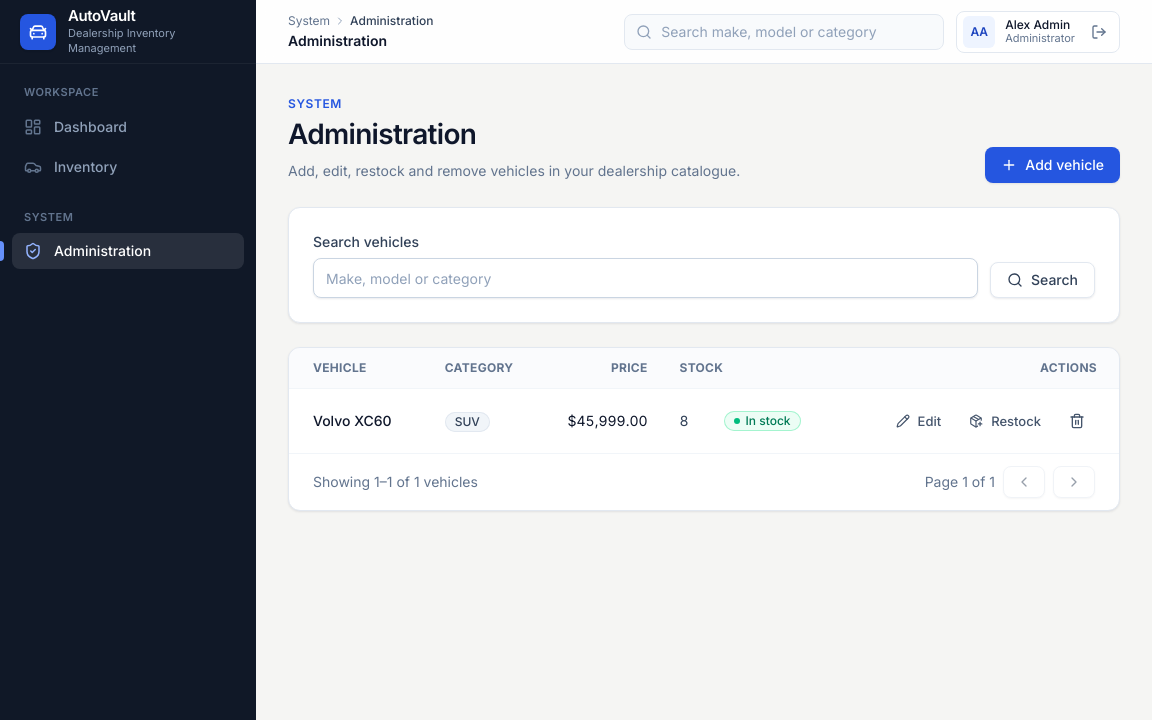
administration › requires confirmation before deleting a vehicle
The width and height of the screenshot is (1152, 720).
Click the button named "Delete Volvo XC60" at (1077,421), box left=1057, top=405, right=1097, bottom=437
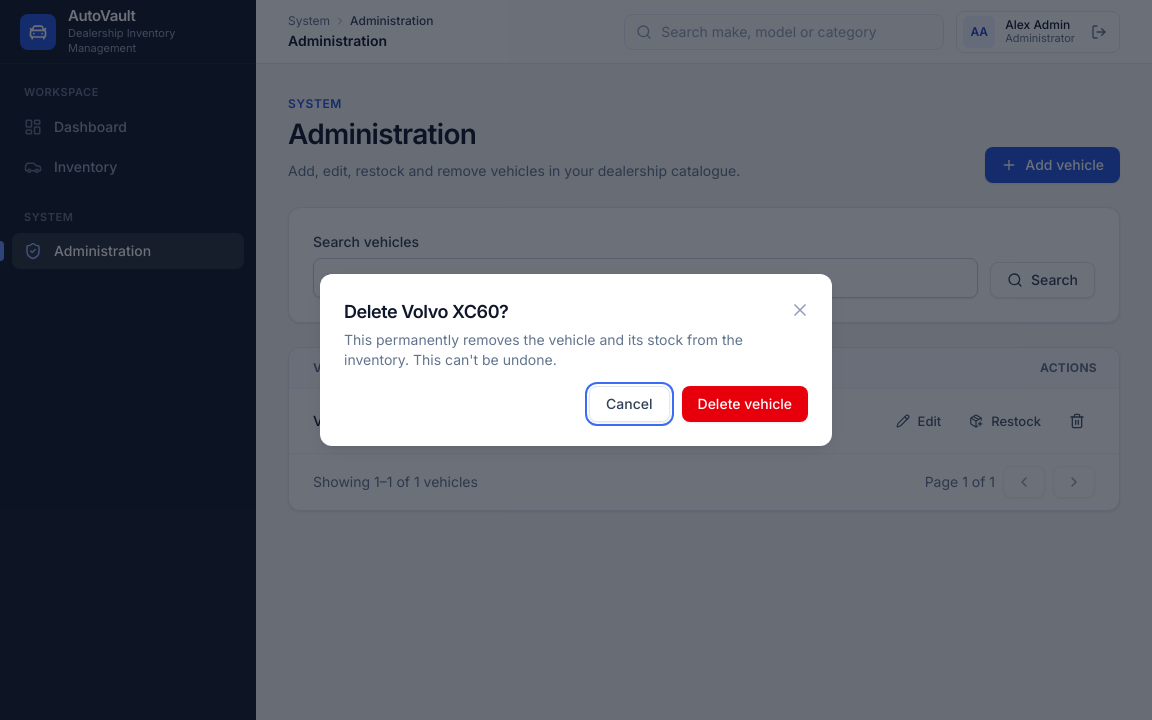
Expected: the heading "Delete Volvo XC60?" is shown, left=344, top=301, right=508, bottom=322
Click the button "Cancel" at (629,404), box left=589, top=386, right=670, bottom=422
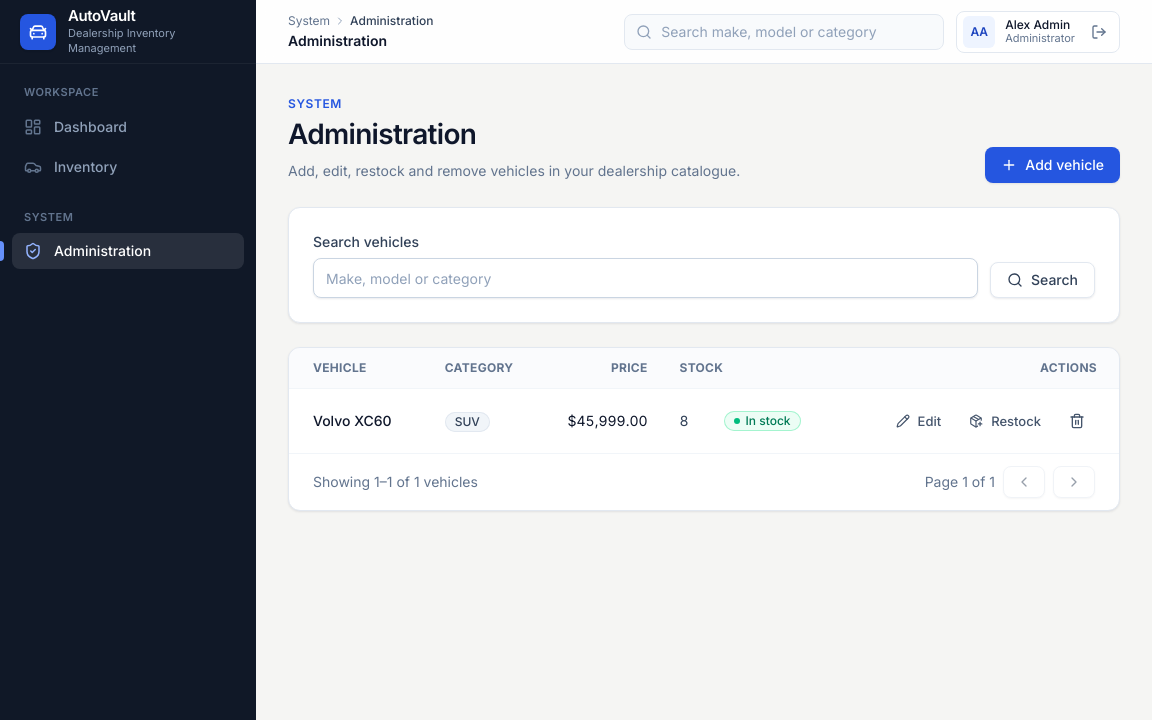
Expected: the dialog is gone
Click the button named "Delete Volvo XC60" at (1077,421), box left=1057, top=405, right=1097, bottom=437
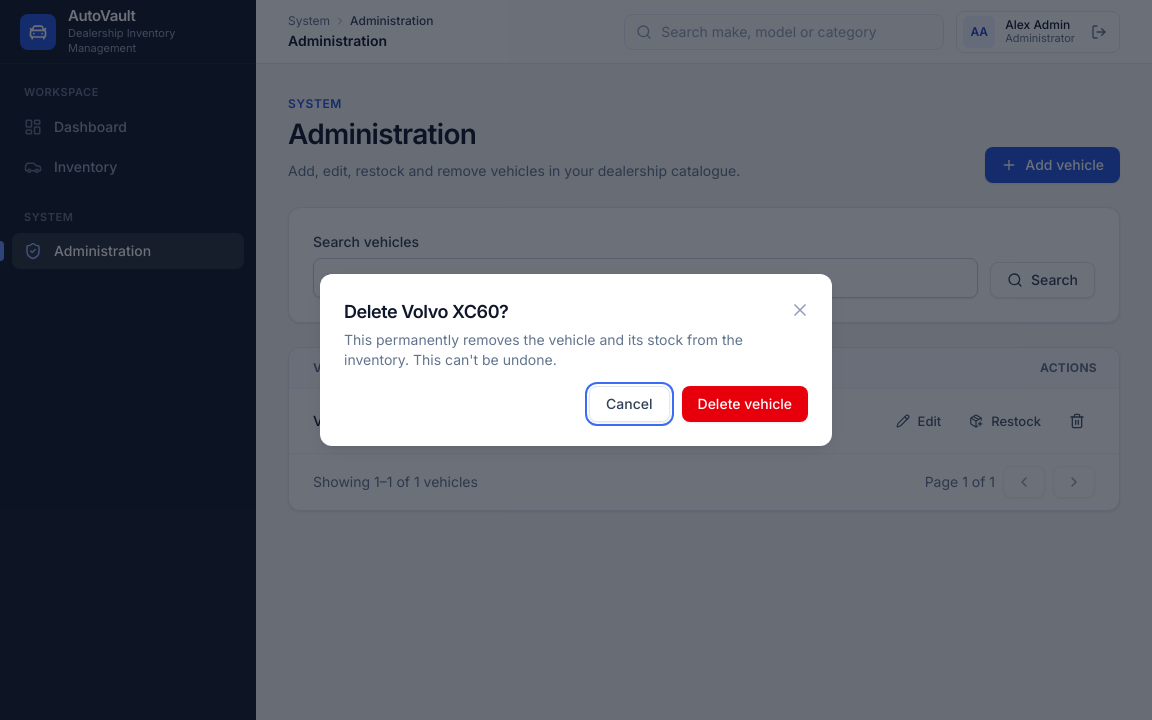
Click the button "Delete vehicle" at (745,404), box left=682, top=386, right=808, bottom=422
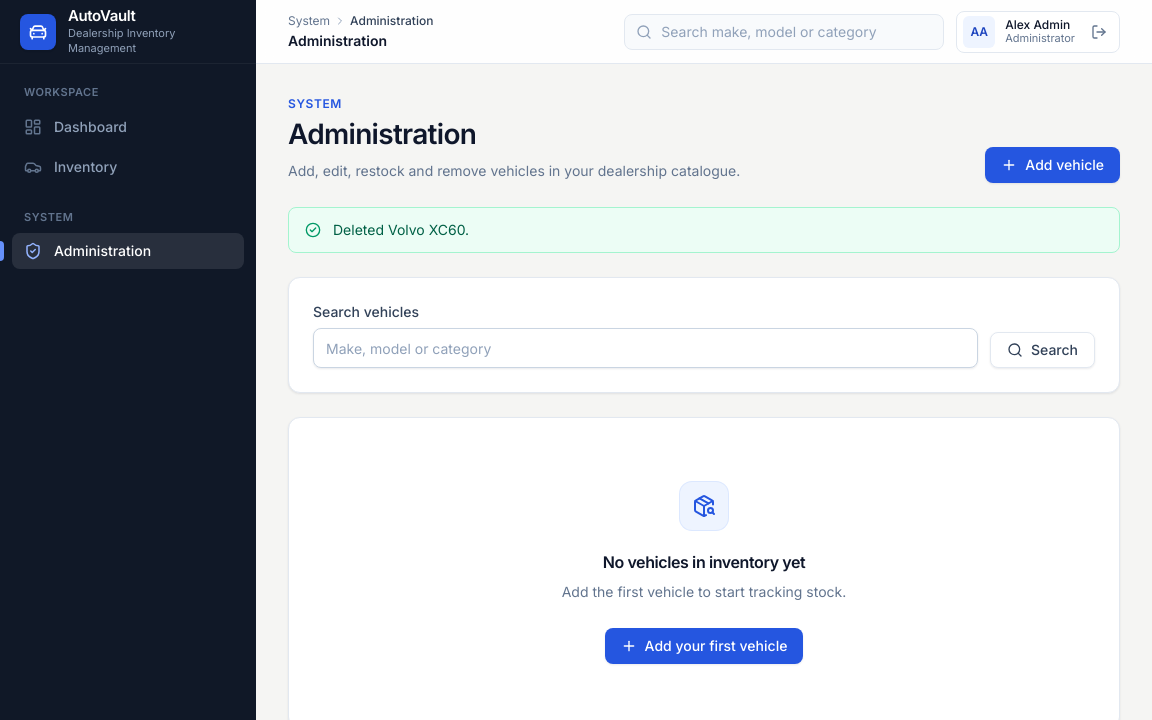
Expected: the text "Deleted Volvo XC60." is shown, left=333, top=220, right=469, bottom=240
Expected: the heading "No vehicles in inventory yet" is shown, left=603, top=550, right=805, bottom=574
